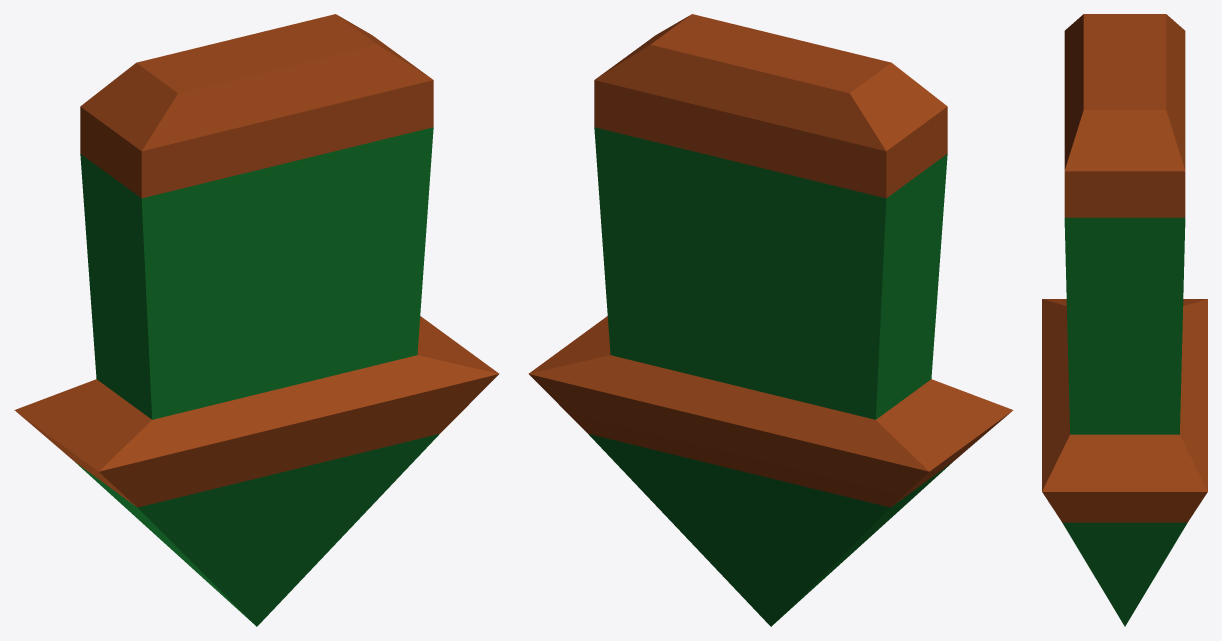
Rendered from Arrow.fbx.
3 renders of one model, left to right at view 1: azimuth 30°, elevation 25°; view 2: azimuth 150°, elevation 25°; view 3: azimuth 270°, elevation 25°, orthographic.
Visible parts, largest first — view 1: Cube; view 2: Cube; view 3: Cube.
Boxes of the visible parts, x1,y1,x2,y2 form: Cube: [14, 14, 499, 626]; Cube: [528, 14, 1013, 626]; Cube: [1042, 14, 1207, 626].
Bounding box in the file's own units: 123 × 168 × 44.58.
